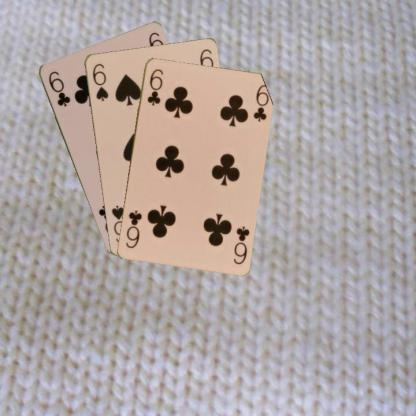6c: (46, 68, 72, 108), (230, 223, 250, 265), (144, 66, 164, 107)
6s: (90, 61, 110, 102)
